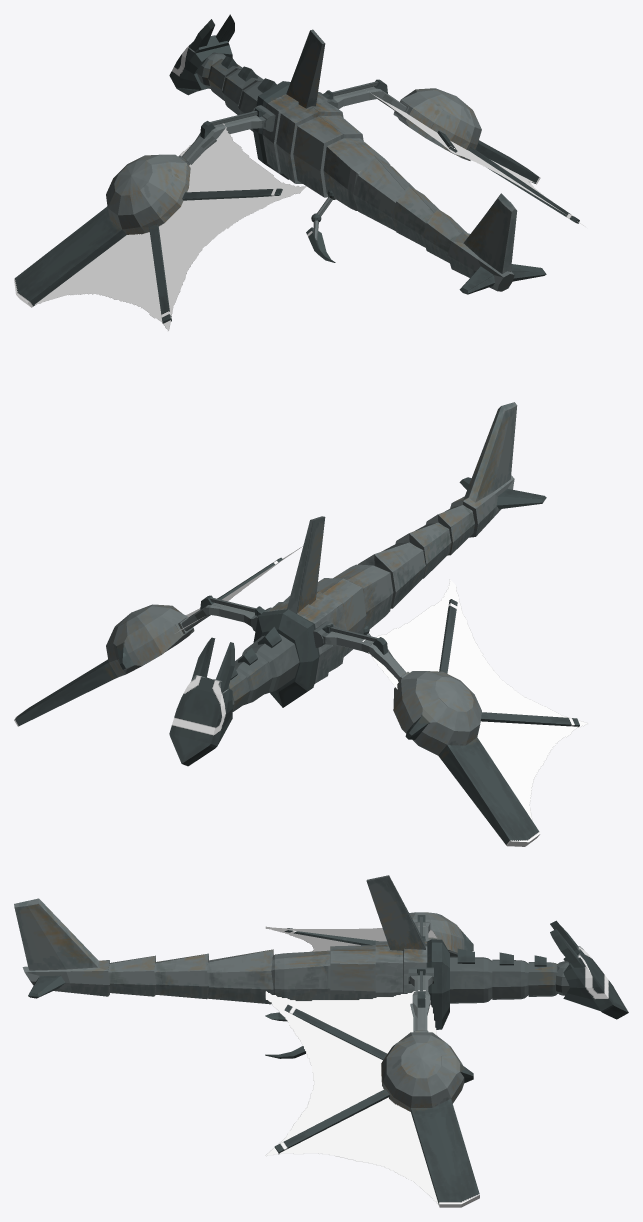
The model's file is Boss3.fbx.
3 views of the same model, one above another, from view 1: azimuth 30°, elevation 25°; view 2: azimuth 150°, elevation 25°; view 3: azimuth 270°, elevation 25° (orthographic). The views are drawn at different scales.
Visible parts, largest first — view 1: HologramWing_1, WingSkeleton_1, WingSkeleton, UpperBodyModel, TailSegmentEnd, MidBodyModel, TailSegment1, LowerBodyModel, Head, TailSegment2, TailSegment3, HologramWing (+3 smaller); view 2: WingSkeleton_1, HologramWing_1, WingSkeleton, UpperBodyModel, Head, TailSegmentEnd, TailSegment1, LowerBodyModel, Neck1, MidBodyModel, TailSegment2, Neck2 (+2 smaller); view 3: HologramWing, WingSkeleton, UpperBodyModel, TailSegmentEnd, Head, TailSegment1, LowerBodyModel, MidBodyModel, TailSegment2, Neck1, WingSkeleton_1, TailSegment3 (+3 smaller).
Boxes of the visible parts, <box> form: HologramWing_1: <box>34,123,306,330</box>; WingSkeleton_1: <box>14,105,282,323</box>; WingSkeleton: <box>318,79,579,223</box>; UpperBodyModel: <box>253,29,343,183</box>; TailSegmentEnd: <box>447,193,546,294</box>; MidBodyModel: <box>293,115,363,197</box>; TailSegment1: <box>352,155,414,231</box>; LowerBodyModel: <box>323,138,390,210</box>; Head: <box>169,14,234,95</box>; TailSegment2: <box>392,185,438,247</box>; TailSegment3: <box>422,209,466,263</box>; HologramWing: <box>371,93,585,226</box>; WingSkeleton_1: <box>313,599,579,846</box>; HologramWing_1: <box>362,579,587,820</box>; WingSkeleton: <box>14,557,282,726</box>; UpperBodyModel: <box>253,516,346,707</box>; Head: <box>169,637,234,766</box>; TailSegmentEnd: <box>450,402,546,537</box>; TailSegment1: <box>358,542,425,608</box>; LowerBodyModel: <box>333,564,393,628</box>; Neck1: <box>242,626,299,694</box>; MidBodyModel: <box>317,578,366,656</box>; TailSegment2: <box>395,522,451,578</box>; Neck2: <box>234,647,272,705</box>; HologramWing: <box>265,990,438,1204</box>; WingSkeleton: <box>274,967,479,1207</box>; UpperBodyModel: <box>366,875,449,1029</box>; TailSegmentEnd: <box>14,898,109,998</box>; Head: <box>550,920,628,1019</box>; TailSegment1: <box>207,949,273,1004</box>; LowerBodyModel: <box>271,950,330,1000</box>; MidBodyModel: <box>330,945,375,999</box>; TailSegment2: <box>154,953,208,999</box>; Neck1: <box>450,948,492,1003</box>; WingSkeleton_1: <box>284,912,473,956</box>; TailSegment3: <box>108,955,155,996</box>.
Bounding box in the file's own units: 1483 × 653 × 1668.
3 materials, 3 textured.
